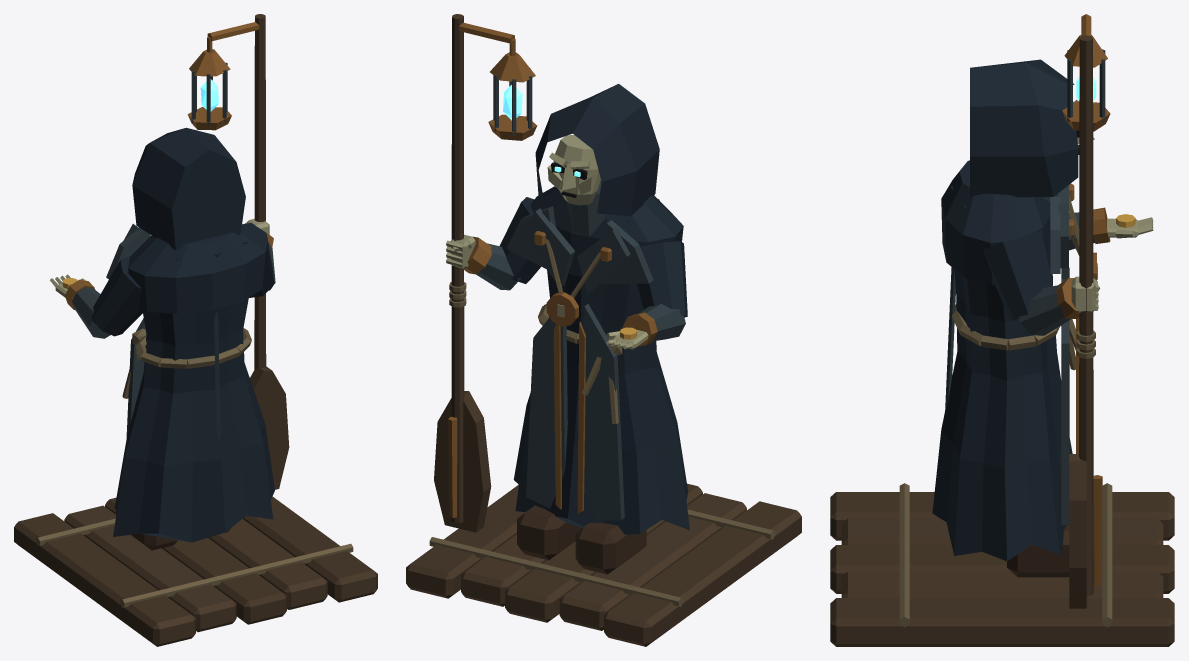
Rendered from ferryman.glb.
3 renders of one model, left to right at view 1: azimuth 30°, elevation 25°; view 2: azimuth 150°, elevation 25°; view 3: azimuth 270°, elevation 25°, orthographic. The views are drawn at different scales.
Parts seen in each view (by area): view 1: ferryman; view 2: ferryman; view 3: ferryman.
Part boxes in pixels (x1,y1,x2,y2): ferryman: (14, 14, 377, 646); ferryman: (406, 14, 801, 646); ferryman: (830, 14, 1174, 646).
Bounding box in the file's own units: 1.4 × 2.86 × 1.48.
